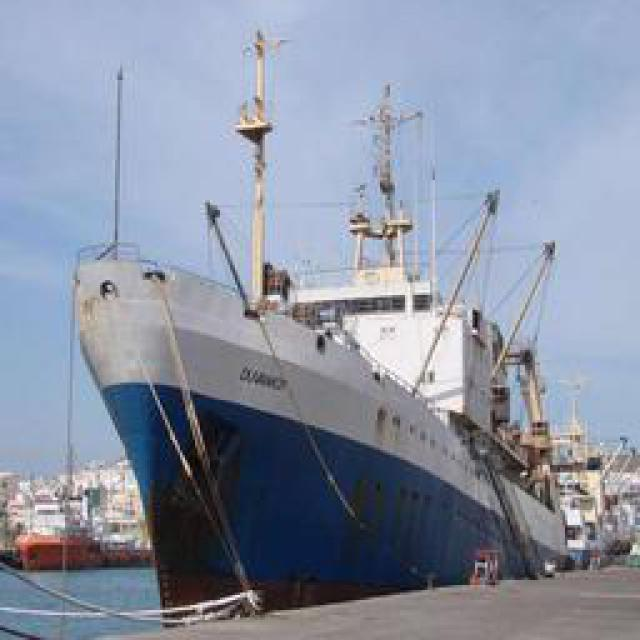Ship: (65, 60, 590, 613)
